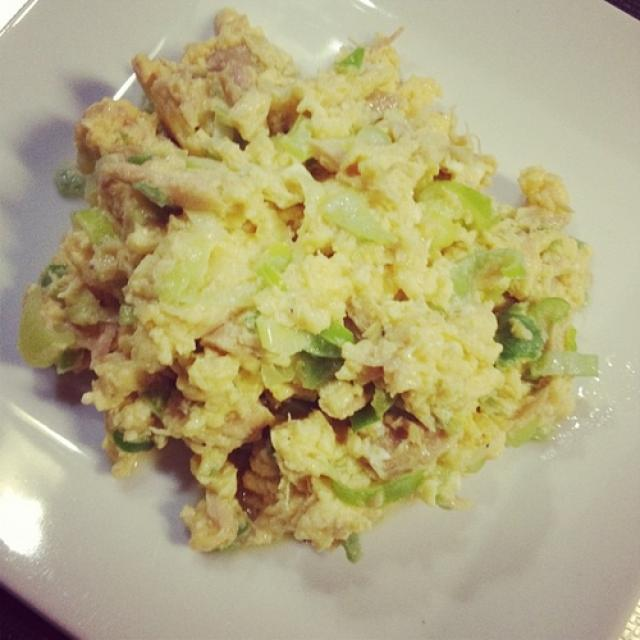鸡蛋料理: (7, 5, 634, 636)
